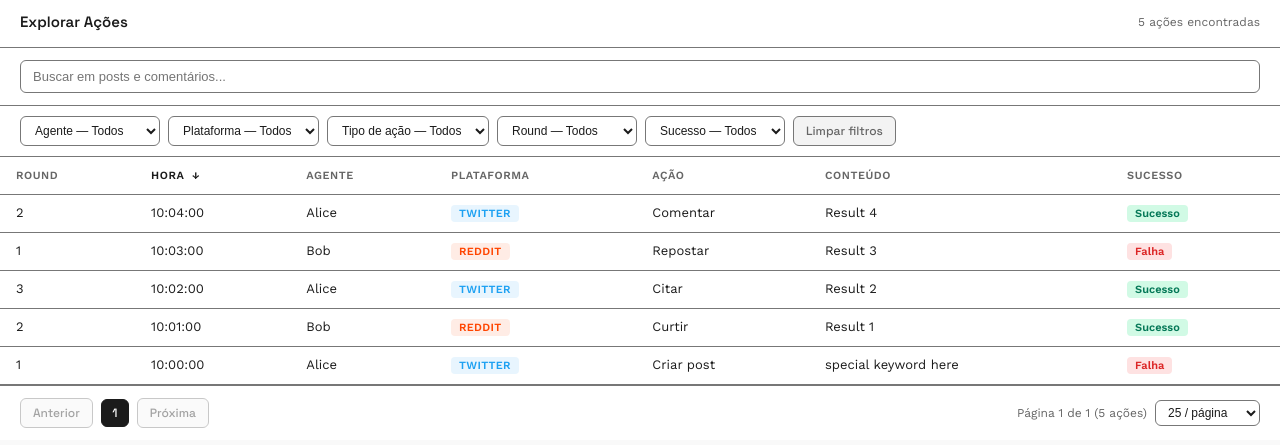
Test: ActionExplorer › filters results by text search
The width and height of the screenshot is (1280, 445).
Expected: the number of rows with class "explorer-row" is 5, [0,194,1279,232]; [0,232,1279,270]; [0,270,1279,308]; [0,308,1279,346]; [0,346,1279,384]
Step 1. Type "special keyword" into the search field with class "explorer-search" → (640, 76), box [20,60,1260,93]
Wait 400 ms
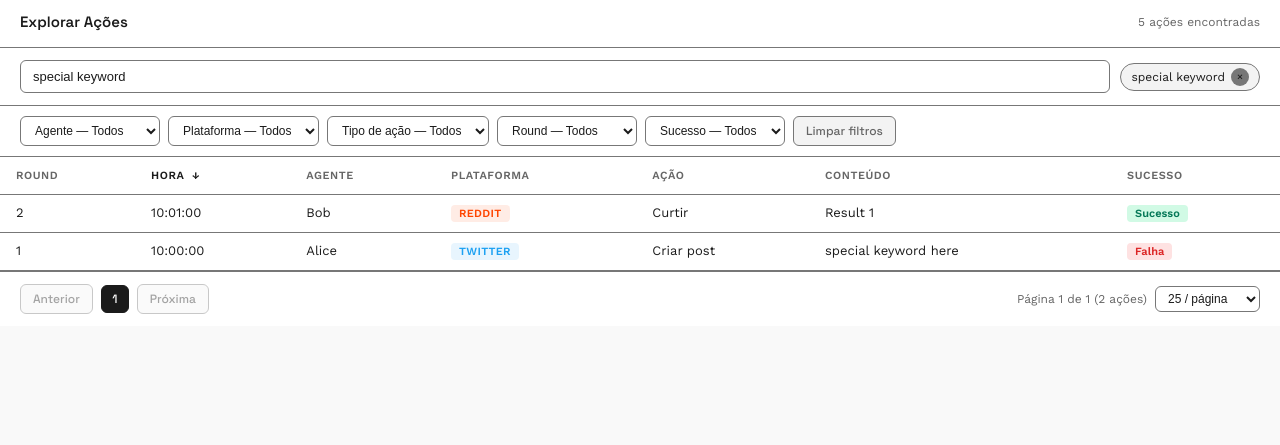
Expected: the number of rows with class "explorer-row" is 2, [0,194,1279,232]; [0,232,1279,270]
